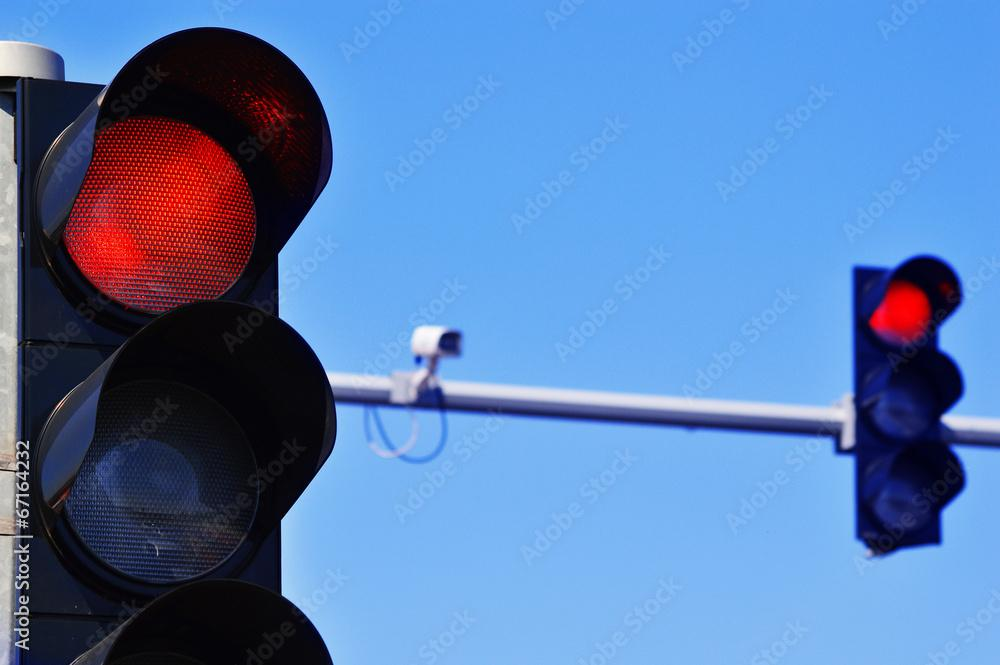red: (20, 48, 388, 642)
